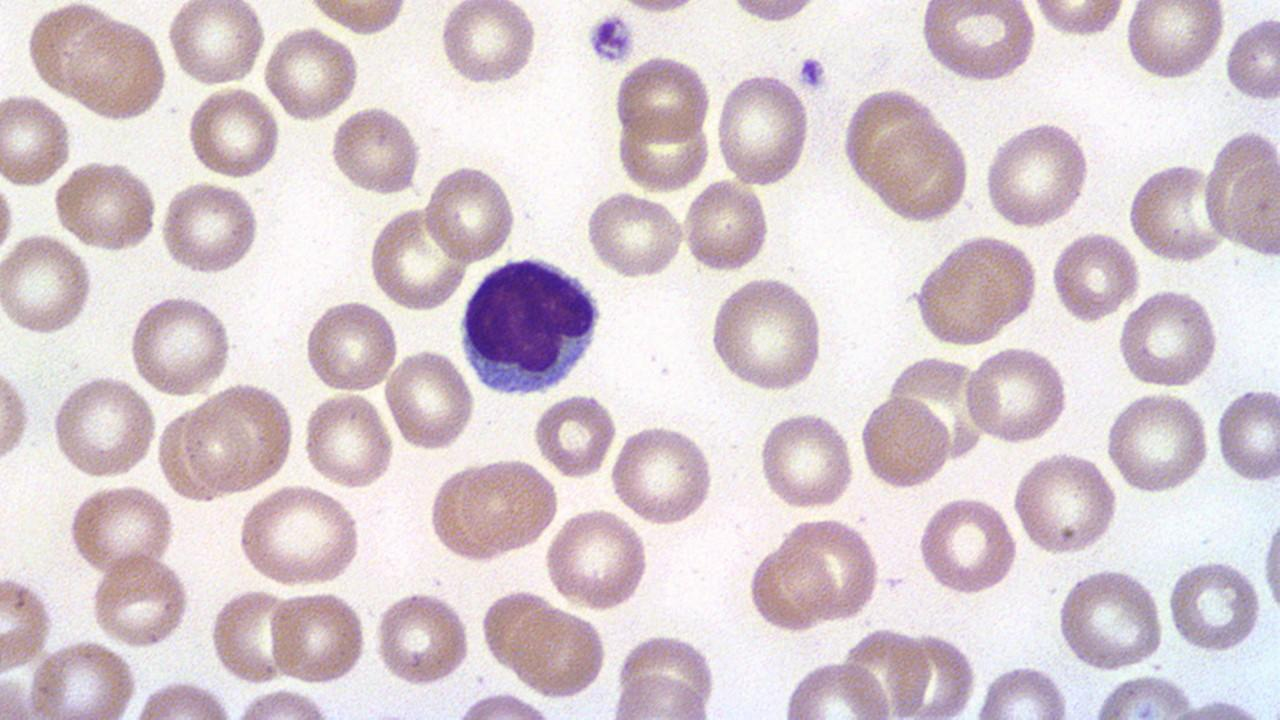Platelets: (582, 12, 638, 67), (795, 52, 828, 93)
RBC: (912, 232, 1038, 348), (708, 272, 826, 395), (47, 10, 171, 123), (236, 483, 363, 587), (1053, 564, 1167, 675), (982, 118, 1093, 231), (1010, 448, 1120, 557), (713, 71, 814, 189), (189, 381, 296, 491), (48, 373, 158, 480), (126, 292, 236, 397), (607, 423, 718, 526), (542, 507, 652, 610), (368, 202, 469, 314), (864, 120, 972, 224), (1104, 390, 1212, 494), (62, 482, 178, 577), (1128, 158, 1230, 266), (1115, 286, 1223, 388), (961, 345, 1071, 445), (784, 514, 884, 622), (840, 87, 939, 196), (916, 492, 1018, 596), (756, 409, 858, 512), (260, 24, 362, 125), (457, 456, 560, 556), (157, 178, 262, 276), (268, 586, 370, 686), (49, 159, 158, 252), (88, 552, 192, 649), (917, 1, 1038, 84), (373, 587, 473, 687), (422, 162, 520, 264), (0, 232, 96, 336), (382, 347, 476, 452), (302, 390, 398, 492), (1166, 556, 1264, 654), (302, 297, 401, 394), (582, 190, 686, 282), (856, 393, 952, 492), (507, 606, 609, 699), (426, 460, 517, 564), (184, 84, 281, 180), (327, 103, 424, 198), (163, 2, 268, 89), (680, 176, 772, 275), (612, 53, 712, 144), (436, 0, 538, 89), (26, 637, 141, 715), (207, 586, 297, 685), (1121, 2, 1227, 84), (614, 108, 712, 194), (1049, 229, 1137, 324), (746, 538, 830, 636), (531, 390, 618, 479), (0, 89, 74, 190), (782, 656, 892, 718), (1213, 383, 1279, 485), (1223, 151, 1279, 263), (0, 571, 57, 675), (1222, 10, 1280, 105), (974, 662, 1072, 718), (1088, 672, 1200, 718), (610, 668, 710, 718), (1026, 0, 1130, 36), (304, 0, 411, 34), (1, 357, 31, 472), (722, 0, 826, 26), (1259, 498, 1279, 628)
WBC: (456, 252, 608, 400)
